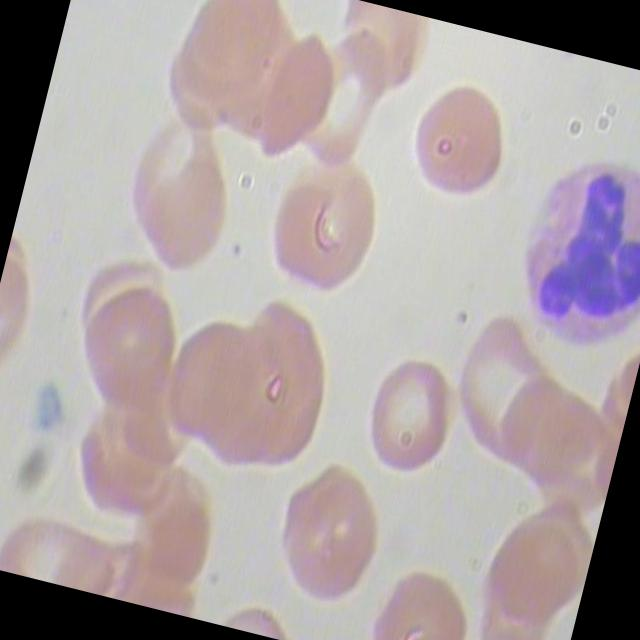Platelets: (26, 374, 86, 441)
RBC: (259, 449, 401, 621), (433, 305, 567, 473), (62, 272, 195, 436), (261, 141, 394, 304), (152, 310, 284, 465), (122, 146, 245, 291), (397, 75, 522, 214), (345, 350, 470, 488), (485, 367, 610, 505), (477, 508, 596, 636), (175, 0, 298, 109), (362, 557, 488, 640), (138, 492, 224, 597)
WBC: (482, 135, 640, 368)
